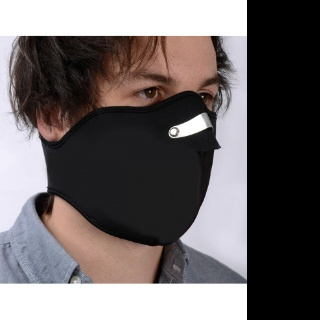with_mask: (64, 65, 221, 248)
